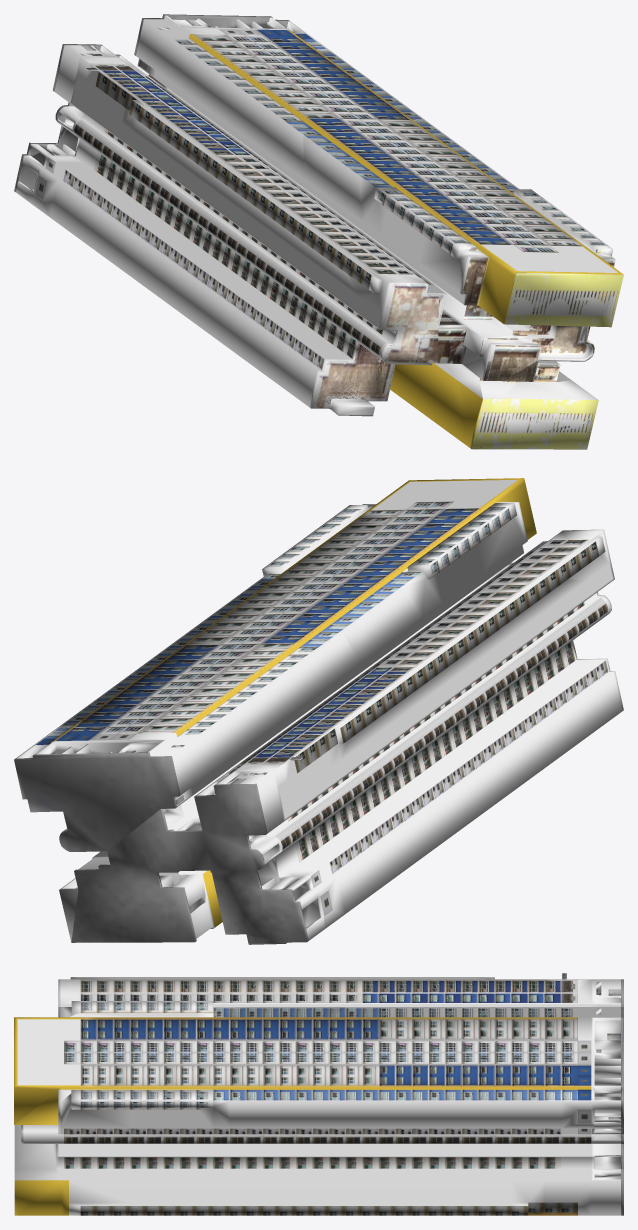
File: amk_blk310c_building.obj
3 views of the same model, one above another, from view 1: azimuth 30°, elevation 25°; view 2: azimuth 150°, elevation 25°; view 3: azimuth 270°, elevation 25° (orthographic). The views are drawn at different scales.
Parts seen in each view (by area): view 1: polygon.777; view 2: polygon.777; view 3: polygon.777.
Boxes of the visible parts, box(x1,y1,x2,y2) form: polygon.777: box(14, 14, 623, 449); polygon.777: box(14, 478, 623, 944); polygon.777: box(14, 973, 623, 1215).
Size of the model in its own units: 45.65 by 31.46 by 99.71.
Materials: 1 (1 with a texture image).
